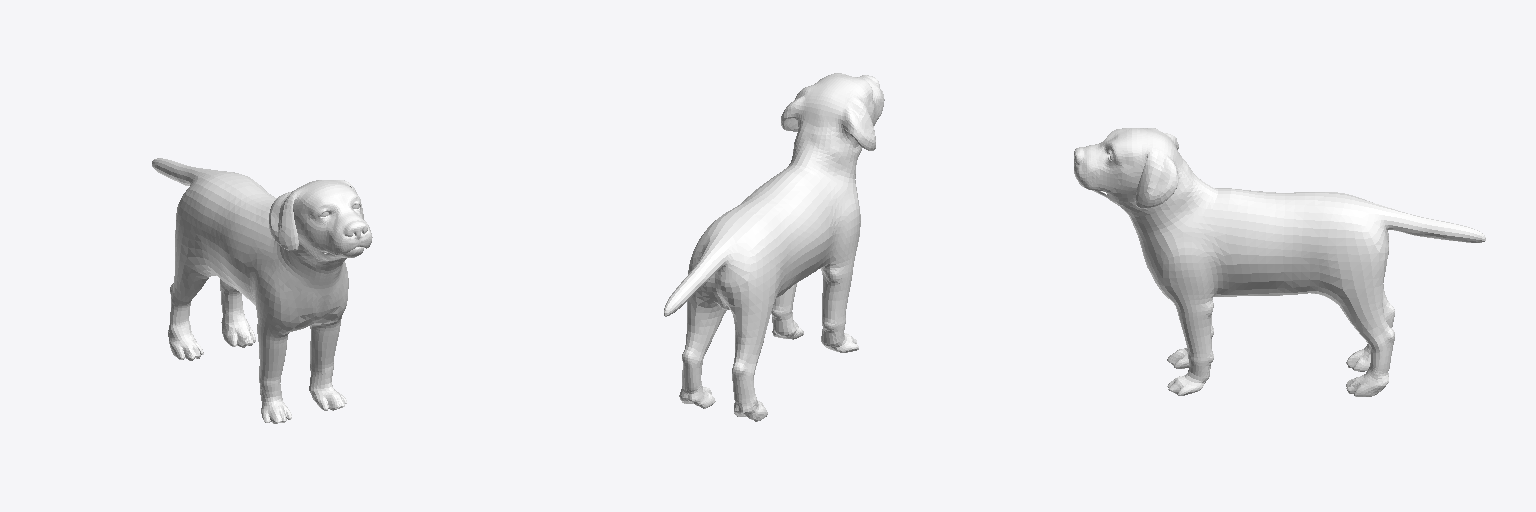
The model's file is newdog.obj.
3 views of the same model, side by side, from view 1: azimuth 30°, elevation 25°; view 2: azimuth 150°, elevation 25°; view 3: azimuth 270°, elevation 25° (orthographic).
Visible parts, largest first — view 1: Dog_body; view 2: Dog_body; view 3: Dog_body.
Part boxes in pixels (left/top/right/bottom): Dog_body: left=152, top=158, right=372, bottom=423; Dog_body: left=664, top=73, right=884, bottom=421; Dog_body: left=1074, top=128, right=1485, bottom=396.
Bounding box in the file's own units: 13.34 × 35.48 × 53.58.